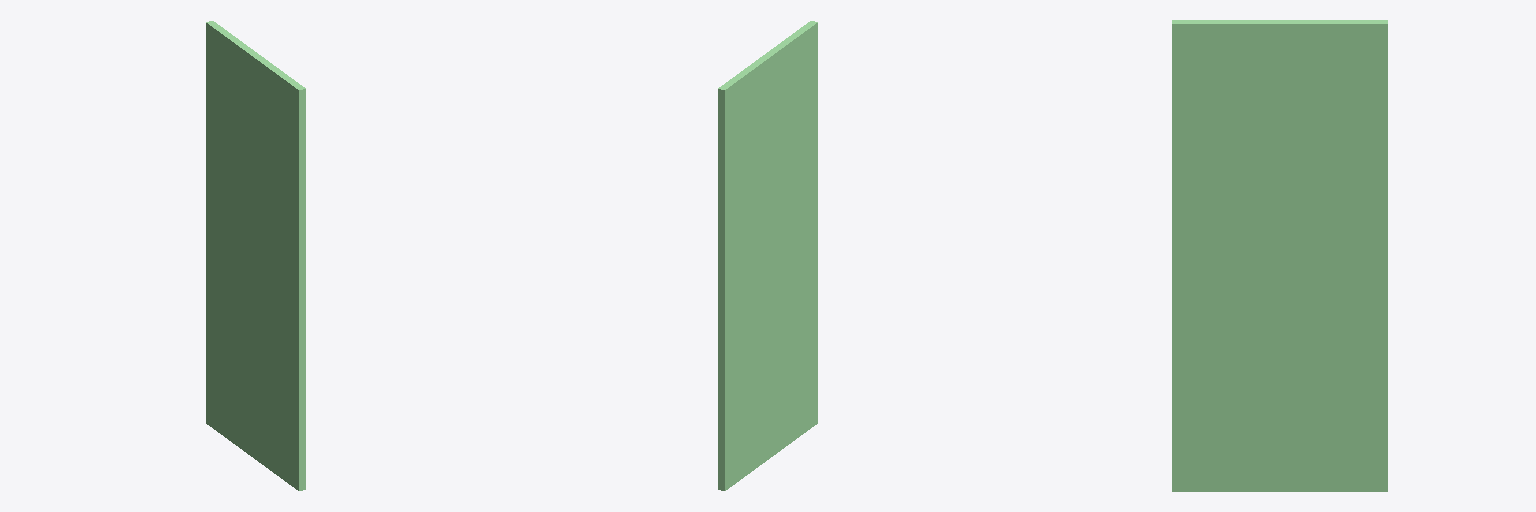
The robot description file, URDF, robot "room602-door-left_fixed":
<?xml version="1.0"?>
<robot name="room602-door-left_fixed"
       xmlns:xi="http://www.w3.org/2001/XInclude">
  <gazebo>
    <static>false</static>
  </gazebo>
  <link name="ROOM602-DOOR-LEFT-BODYSET2_link">
    <visual>
      <origin xyz="0 0 0" rpy="0 -0 0"/>
      <geometry>
        <mesh filename="model://room602-door-left/meshes/ROOM602-DOOR-LEFT-BODYSET2_link_mesh.dae" scale="1 1 1" />
      </geometry>
    </visual>
    <collision>
      <origin xyz="0 0 0" rpy="0 -0 0"/>
      <geometry>
        <mesh filename="model://room602-door-left/meshes/ROOM602-DOOR-LEFT-BODYSET2_link_mesh.dae" scale="1 1 1" />
      </geometry>
    </collision>
    <inertial>
      <mass value="0.001" />
      <origin xyz="0 0 0" rpy="0 -0 0"/>
      <inertia ixx="1e-03" ixy="0" ixz="0" iyy="1e-03" iyz="0" izz="1e-03"/>
    </inertial>
  </link>
  <gazebo reference="ROOM602-DOOR-LEFT-BODYSET2_link">
    <mu1>0.9</mu1>
    <mu2>0.9</mu2>
  </gazebo>
  <link name="ROOM602-DOOR-LEFT-BODYSET3_link">
    <visual>
      <origin xyz="-0.017 -0.017 0" rpy="0 -0 0"/>
      <geometry>
        <mesh filename="model://room602-door-left/meshes/ROOM602-DOOR-LEFT-BODYSET3_link_mesh.dae" scale="1 1 1" />
      </geometry>
    </visual>
    <collision>
      <origin xyz="-0.017 -0.017 0" rpy="0 -0 0"/>
      <geometry>
        <mesh filename="model://room602-door-left/meshes/ROOM602-DOOR-LEFT-BODYSET3_link_mesh.dae" scale="1 1 1" />
      </geometry>
    </collision>
    <inertial>
      <mass value="0.001" />
      <origin xyz="0 0 0" rpy="0 -0 0"/>
      <inertia ixx="1e-03" ixy="0" ixz="0" iyy="1e-03" iyz="0" izz="1e-03"/>
    </inertial>
  </link>
  <gazebo reference="ROOM602-DOOR-LEFT-BODYSET3_link">
    <mu1>0.9</mu1>
    <mu2>0.9</mu2>
  </gazebo>
  <joint name="DOOR" type="revolute">
    <parent link="ROOM602-DOOR-LEFT-BODYSET2_link"/>
    <child  link="ROOM602-DOOR-LEFT-BODYSET3_link"/>
    <origin xyz="-0.017 -0.017 0" rpy="0 -0 0 "/>
    <axis   xyz="0 0 1"/>
    <limit lower="0" upper="1.5708" effort="100" velocity="0.5" />
    <dynamics damping="0.2" friction="0" />
  </joint>
  <transmission type="pr2_mechanism_model/SimpleTransmission" name="DOOR_trans" >
    <actuator name="DOOR_motor" />
    <joint name="DOOR" />
    <mechanicalReduction>1</mechanicalReduction>
  </transmission>
  <gazebo reference="DOOR">
    <cfmDamping>0.4</cfmDamping>
  </gazebo>
  <!-- Used for fixing robot to Gazebo 'base_link' -->
  <link name="world"/>
  <joint name="fixed" type="fixed">
    <parent link="world"/>
    <child link="ROOM602-DOOR-LEFT-BODYSET2_link"/>
  </joint>
</robot>

--- Facts derived from the render (not from the file) ---
The picture shows the robot from 3 angles, left to right: view 1: azimuth 30°, elevation 25°; view 2: azimuth 150°, elevation 25°; view 3: azimuth 270°, elevation 25°; orthographic projection.
Robot: room602-door-left_fixed — 3 links, 2 joints (1 revolute, 1 fixed); root link world; default pose: every joint at zero.
Links seen in each view (by area): view 1: ROOM602-DOOR-LEFT-BODYSET3_link; view 2: ROOM602-DOOR-LEFT-BODYSET3_link; view 3: ROOM602-DOOR-LEFT-BODYSET3_link.
Link boxes in pixels (bbox=[...]): ROOM602-DOOR-LEFT-BODYSET3_link: bbox=[206, 21, 305, 490]; ROOM602-DOOR-LEFT-BODYSET3_link: bbox=[718, 21, 817, 490]; ROOM602-DOOR-LEFT-BODYSET3_link: bbox=[1172, 20, 1387, 491].
Size in the robot's own frame: 0.035 by 0.8 by 1.9 metres.
Meshes: 2 distinct files referenced, 2 mesh visuals loaded (2 Collada DAE).